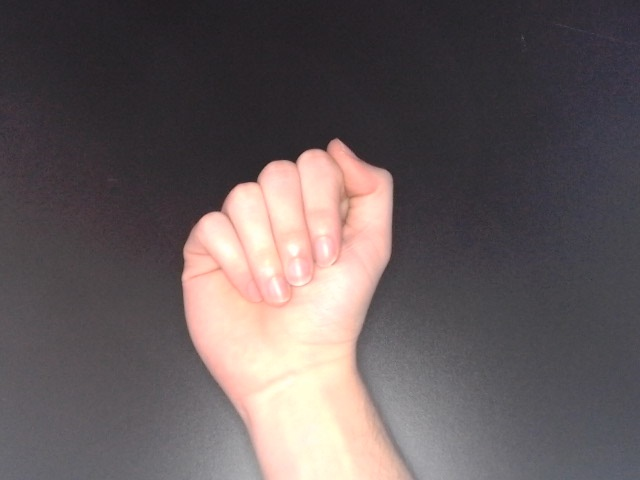a: (176, 134, 399, 415)
